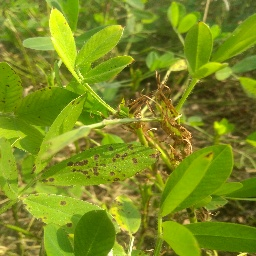GroundNut_Leaf: (155, 142, 241, 216), (37, 144, 151, 190), (76, 22, 131, 85), (159, 222, 255, 253), (45, 89, 90, 140), (73, 208, 115, 256), (48, 3, 77, 72), (181, 21, 218, 68), (1, 137, 21, 204), (1, 58, 26, 110), (42, 222, 72, 256)
